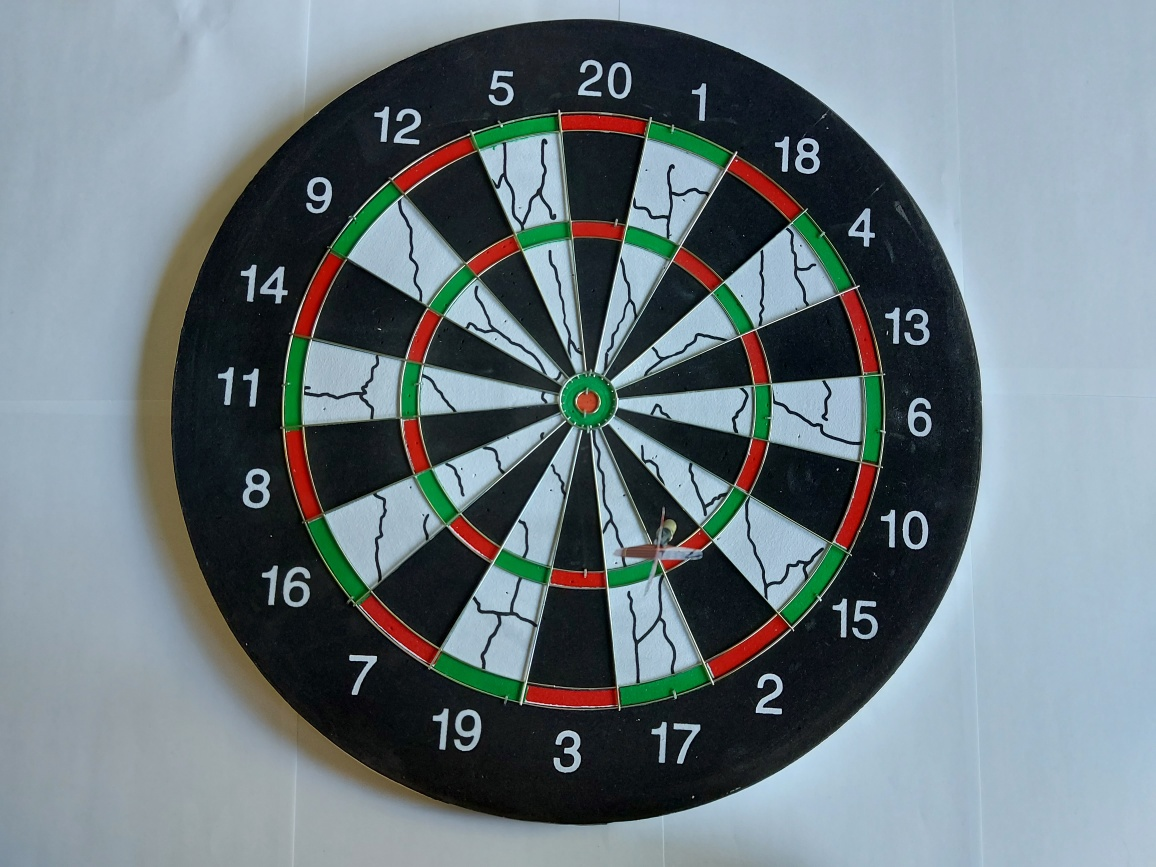Dart: (609, 492, 709, 603)
